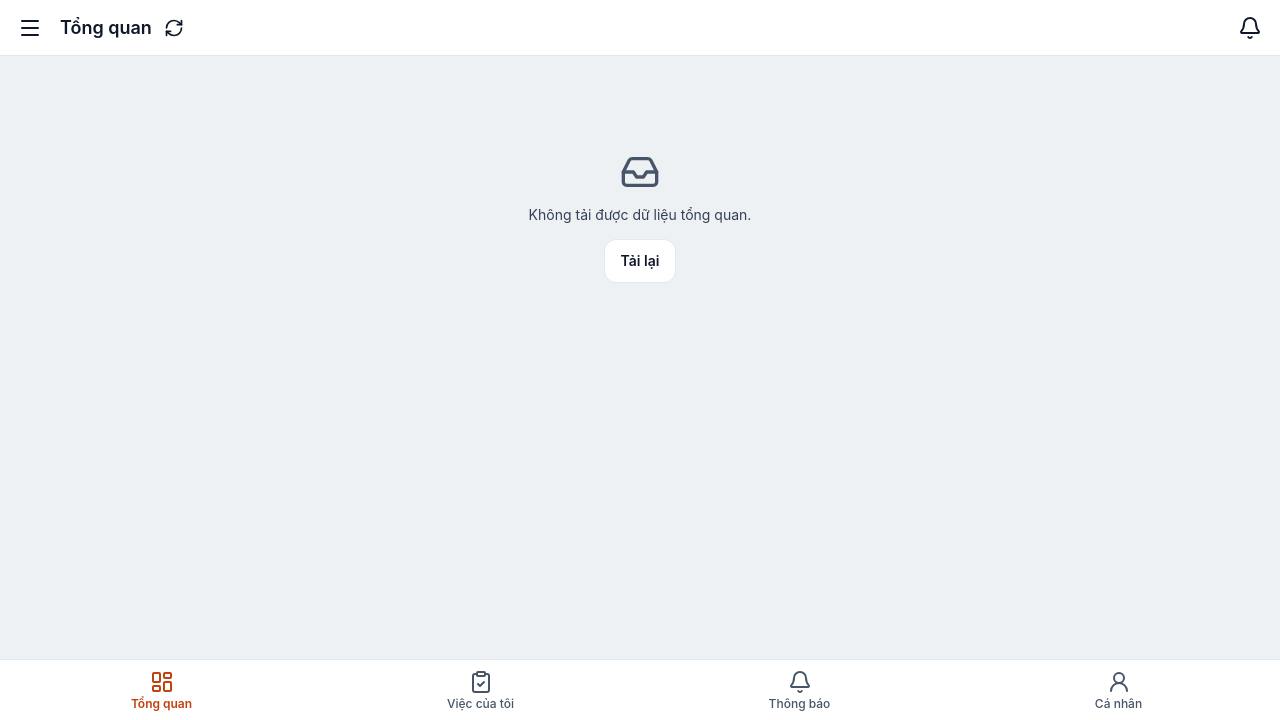
Test: Trang Cá nhân và Thông báo › AC-SYS-050 chạm Thông báo → trang thật (nội dung đầy đủ ở M7-01b)
Click the link "Thông báo" at (800, 690), box [769,670,830,711]
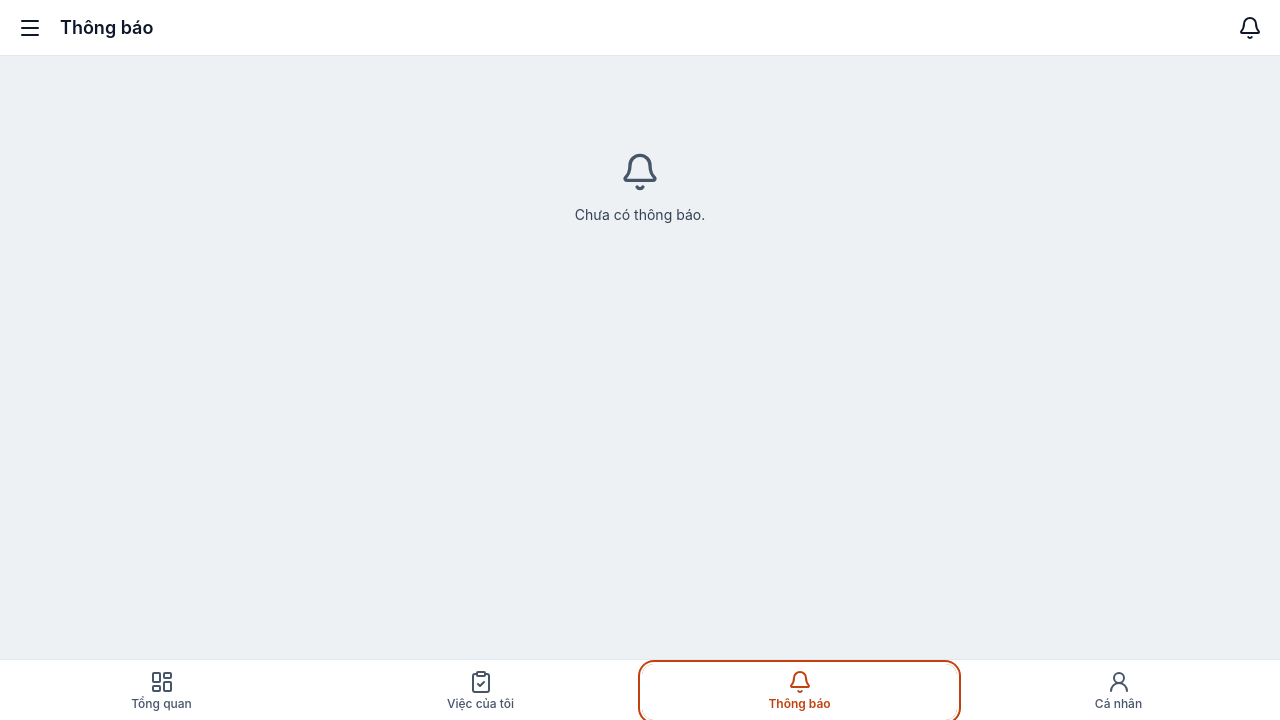
Check: the heading "Thông báo" is shown, box [60,14,153,42]
Check: the text "Chưa có thông báo." is shown, box [575,204,705,227]
